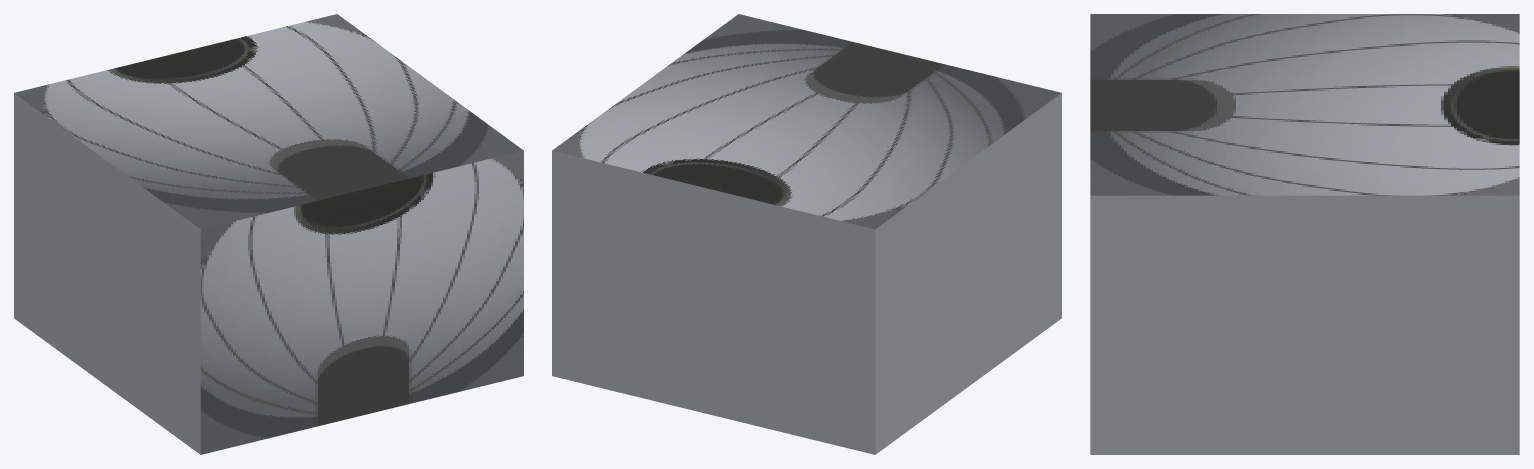
File: Building_GravshipShieldGenerator.glb
3 renders of one model, left to right at view 1: azimuth 30°, elevation 25°; view 2: azimuth 150°, elevation 25°; view 3: azimuth 270°, elevation 25°, orthographic. The views are drawn at different scales.
Parts seen in each view (by area): view 1: GravshipShieldGenerator; view 2: GravshipShieldGenerator; view 3: GravshipShieldGenerator.
Part boxes in pixels (<box>): GravshipShieldGenerator: <box>14,14,523,454</box>; GravshipShieldGenerator: <box>552,14,1061,454</box>; GravshipShieldGenerator: <box>1090,14,1519,454</box>.
Bounding box in the file's own units: 1.8 × 1.2 × 1.8.
1 material, 1 textured.
